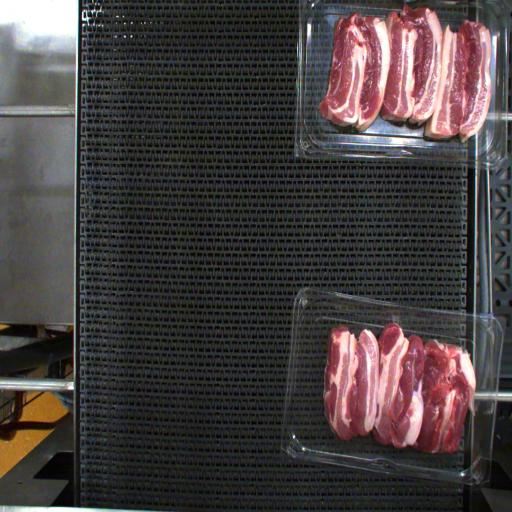packaging-error: (392, 312, 402, 325)
